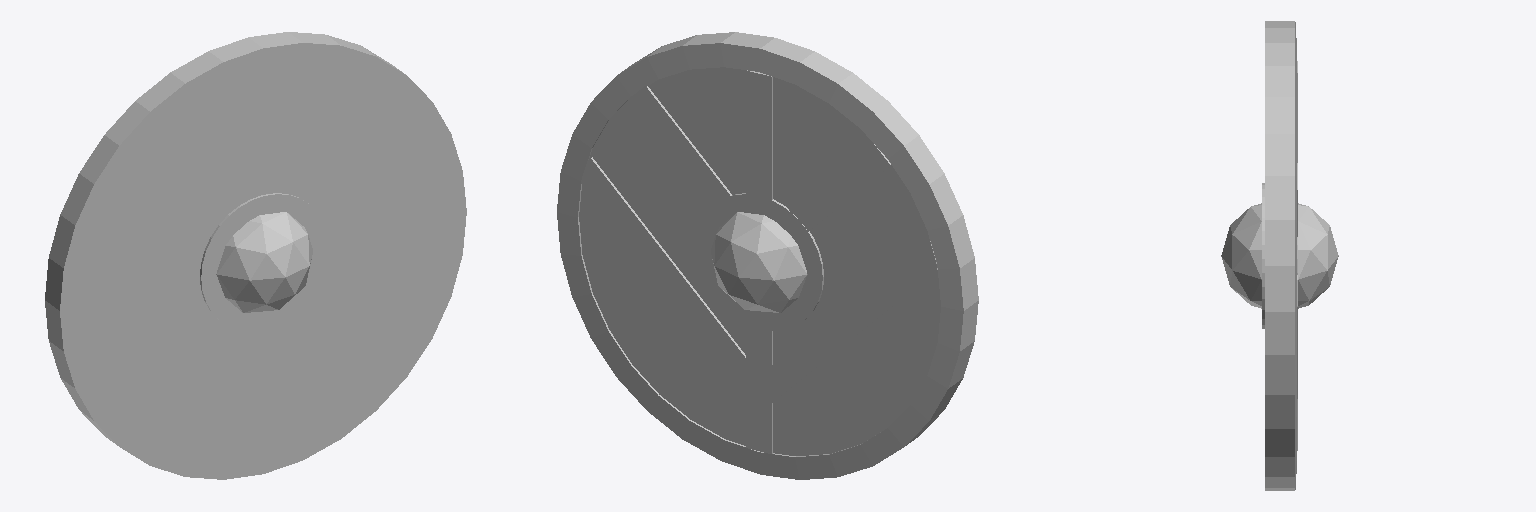
The model's file is escudo.obj.
The picture shows the model from 3 angles: view 1: azimuth 30°, elevation 25°; view 2: azimuth 150°, elevation 25°; view 3: azimuth 270°, elevation 25°; orthographic projection.
Visible parts, largest first — view 1: Icosphere.001; view 2: Icosphere.001; view 3: Icosphere.001.
Boxes of the visible parts, x1=… form: Icosphere.001: x1=45, y1=32, x2=466, y2=479; Icosphere.001: x1=557, y1=32, x2=978, y2=479; Icosphere.001: x1=1221, y1=21, x2=1338, y2=490.
Size of the model in its own units: 1.22 by 1.22 by 0.3048.